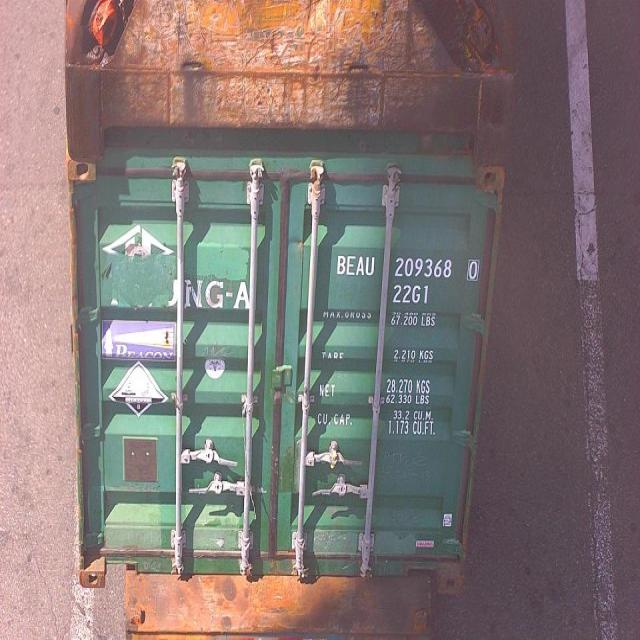ISO: (392, 284, 434, 306)
container_number: (338, 254, 472, 279)
